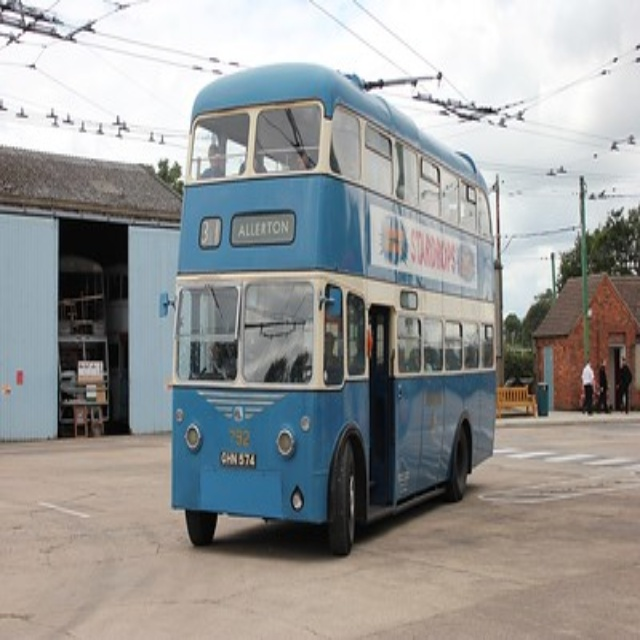Bus: (170, 63, 496, 558)
